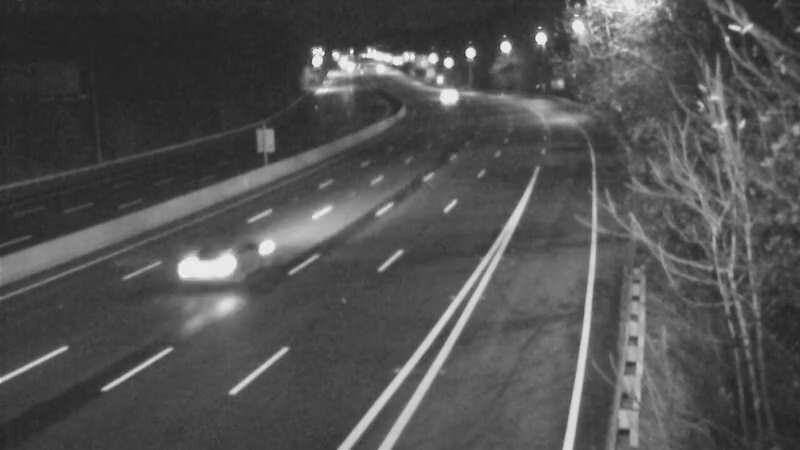vehicle: (184, 219, 264, 299), (422, 71, 472, 121)
